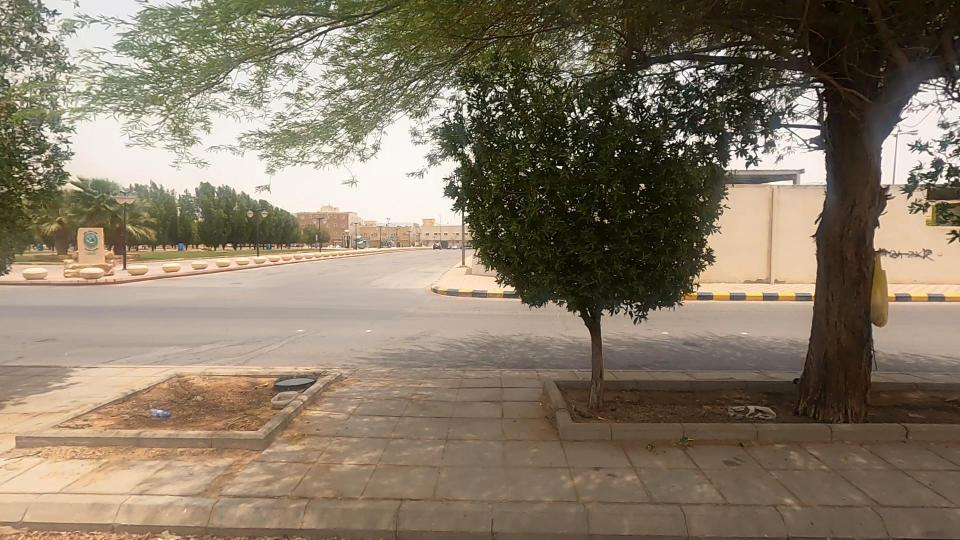GARBAGE: (223, 325, 352, 445), (672, 370, 818, 457), (99, 369, 219, 451)
